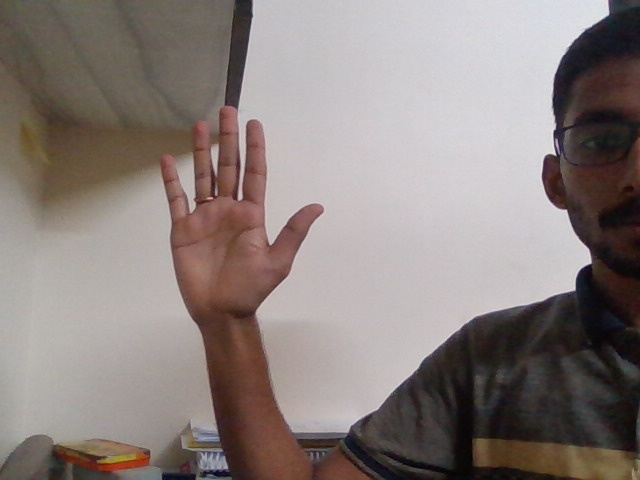Hello: (134, 91, 344, 361)
